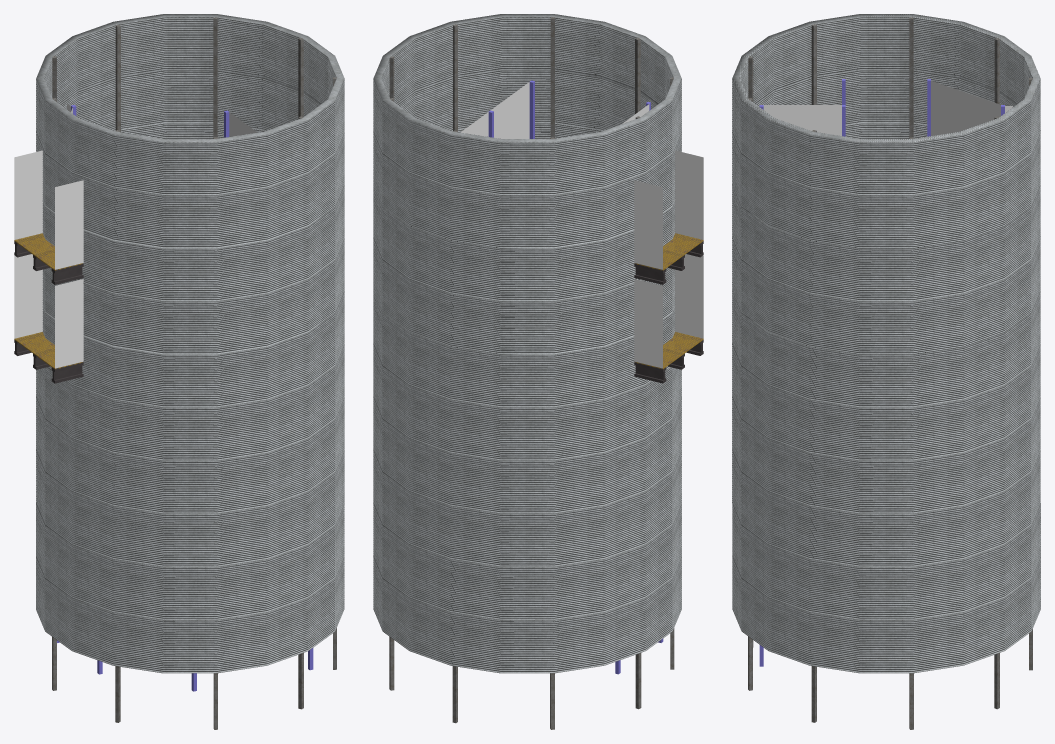
Rendered from Building_TST_1t.glb.
3 views of the same model, side by side, from view 1: azimuth 30°, elevation 25°; view 2: azimuth 150°, elevation 25°; view 3: azimuth 270°, elevation 25° (orthographic).
Visible parts, largest first — view 1: Cylinder.008, Cylinder.003, Cylinder.007, Cylinder.001, Cylinder.002, Wall_1m.407, Wall_1m.406, Wall_1m.413, Wall_1m.415, Floor 2x2.115, Floor 2x2.285, INT_Wall_2m_Solid.435 (+1 smaller); view 2: Cylinder.008, Cylinder.003, Cylinder.007, Cylinder.001, Cylinder.002, Wall_1m.415, Wall_1m.407, Wall_1m.406, Wall_1m.413, Wall_1m.410, Floor 2x2.285, Floor 2x2.115 (+2 smaller); view 3: Cylinder.008, Cylinder.002, Cylinder.003, Cylinder.001, Cylinder.007, Wall_1m.405, Wall_1m.411, INT_Wall_2m_Solid.442.
Boxes of the visible parts, x1=… form: Cylinder.008: x1=36, y1=14, x2=344, y2=248; Cylinder.003: x1=36, y1=503, x2=344, y2=673; Cylinder.007: x1=36, y1=397, x2=344, y2=566; Cylinder.001: x1=36, y1=291, x2=344, y2=460; Cylinder.002: x1=42, y1=123, x2=344, y2=354; Wall_1m.407: x1=55, y1=180, x2=83, y2=269; Wall_1m.406: x1=14, y1=150, x2=42, y2=239; Wall_1m.413: x1=55, y1=279, x2=83, y2=368; Wall_1m.415: x1=14, y1=254, x2=42, y2=338; Floor 2x2.115: x1=14, y1=233, x2=83, y2=284; Floor 2x2.285: x1=14, y1=332, x2=83, y2=383; INT_Wall_2m_Solid.435: x1=115, y1=25, x2=120, y2=131; Cylinder.008: x1=373, y1=14, x2=681, y2=248; Cylinder.003: x1=373, y1=503, x2=681, y2=673; Cylinder.007: x1=373, y1=397, x2=681, y2=566; Cylinder.001: x1=373, y1=291, x2=681, y2=460; Cylinder.002: x1=373, y1=123, x2=675, y2=354; Wall_1m.415: x1=634, y1=279, x2=662, y2=368; Wall_1m.407: x1=675, y1=150, x2=703, y2=239; Wall_1m.406: x1=634, y1=180, x2=662, y2=269; Wall_1m.413: x1=675, y1=254, x2=703, y2=338; Wall_1m.410: x1=490, y1=82, x2=529, y2=138; Floor 2x2.285: x1=634, y1=332, x2=703, y2=383; Floor 2x2.115: x1=634, y1=233, x2=703, y2=284; Cylinder.008: x1=732, y1=14, x2=1040, y2=248; Cylinder.002: x1=732, y1=123, x2=1040, y2=354; Cylinder.003: x1=732, y1=503, x2=1040, y2=673; Cylinder.001: x1=732, y1=291, x2=1040, y2=460; Cylinder.007: x1=732, y1=397, x2=1040, y2=566; Wall_1m.405: x1=931, y1=80, x2=1000, y2=135; Wall_1m.411: x1=763, y1=105, x2=841, y2=135; INT_Wall_2m_Solid.442: x1=909, y1=17, x2=913, y2=137.
Size of the model in its own units: 10.18 by 20.02 by 9.48.
Materials: 6 (4 with a texture image).
